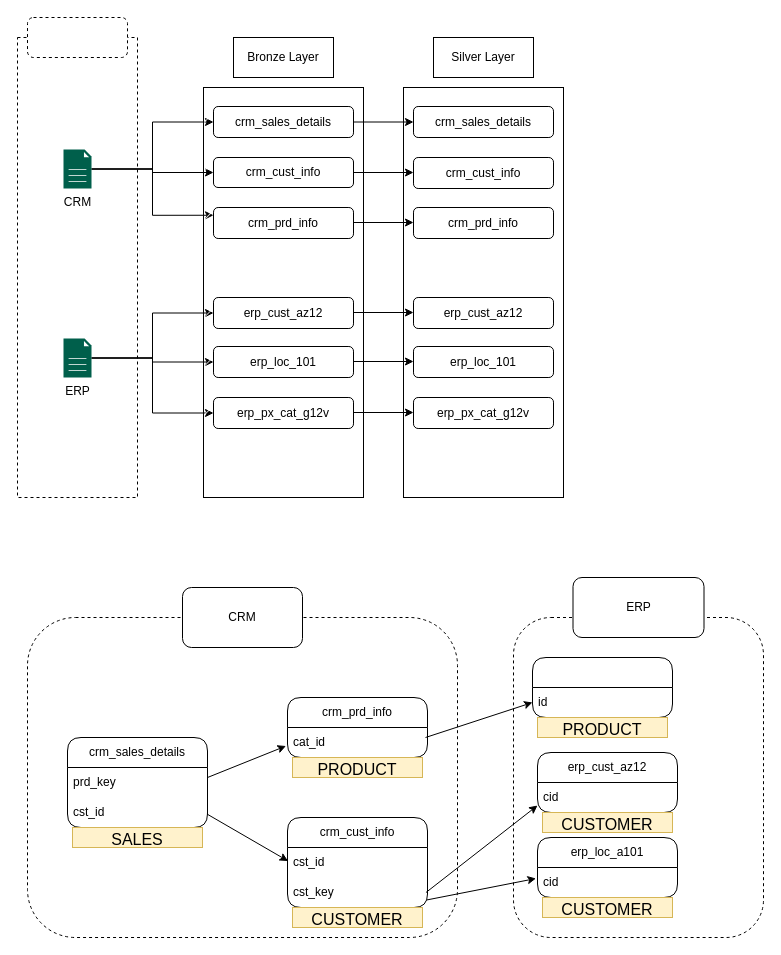
The diagram is 781 pixels wide and 955 high, and some of its shapes have lost their labels. Here are the shapes that lost their labels. From the top down, the box of each, then its label:
(26, 16, 128, 58): Source
(532, 656, 672, 718): erp_px_cat_g1v2
